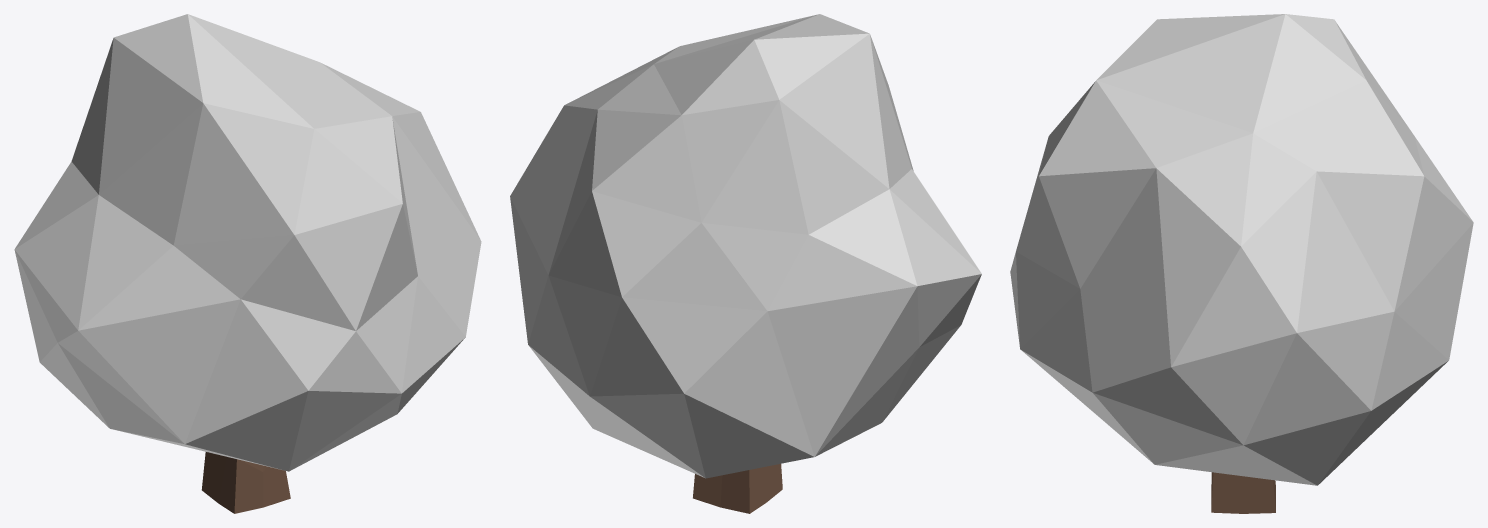
The model's file is Tree_3_White.fbx.
The picture shows the model from 3 angles, left to right: view 1: azimuth 30°, elevation 25°; view 2: azimuth 150°, elevation 25°; view 3: azimuth 270°, elevation 25°; orthographic projection. The views are drawn at different scales.
Parts seen in each view (by area): view 1: Tree_3_White_Part_1, Tree_3_White_Part_2; view 2: Tree_3_White_Part_1, Tree_3_White_Part_2; view 3: Tree_3_White_Part_1, Tree_3_White_Part_2.
Part boxes in pixels (box(x1,y1,x2,y2)): Tree_3_White_Part_1: box(14, 14, 481, 471); Tree_3_White_Part_2: box(201, 452, 290, 513); Tree_3_White_Part_1: box(510, 14, 981, 478); Tree_3_White_Part_2: box(693, 464, 782, 513); Tree_3_White_Part_1: box(1010, 14, 1473, 485); Tree_3_White_Part_2: box(1211, 472, 1275, 513).
Size of the model in its own units: 714 by 807 by 720.
